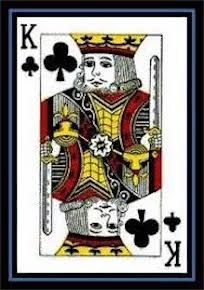KingOfClubs: (13, 11, 194, 277)
